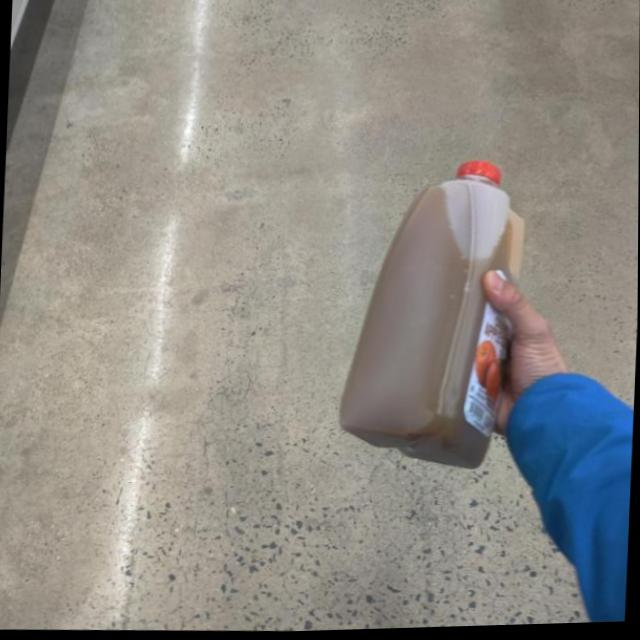Juice: (331, 140, 547, 488)
